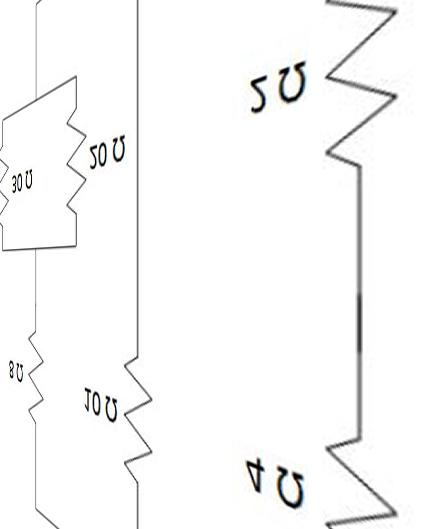resistor: (309, 5, 417, 171), (322, 418, 404, 528), (117, 339, 172, 485), (46, 70, 96, 217), (54, 85, 93, 219), (22, 319, 57, 433)
